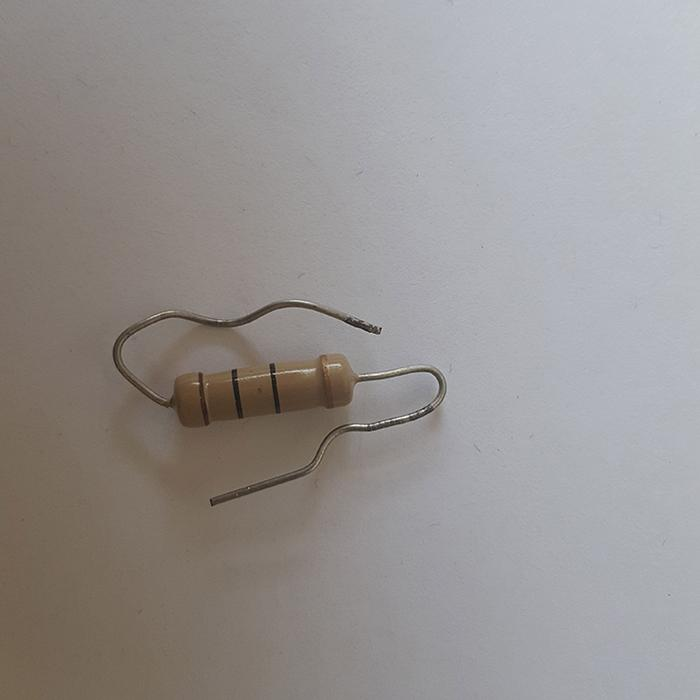resistor: (173, 353, 356, 426)
